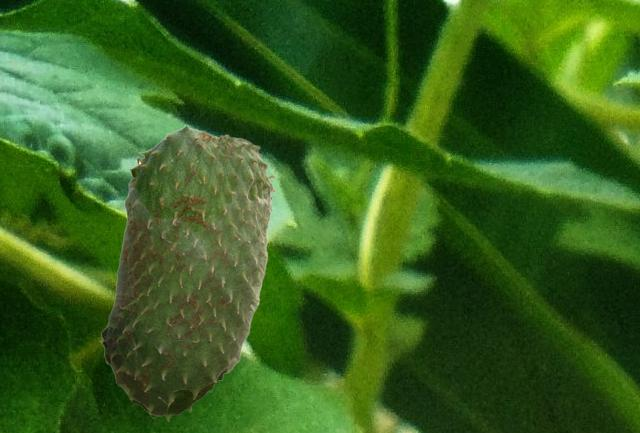guyabano: (99, 124, 276, 420)
